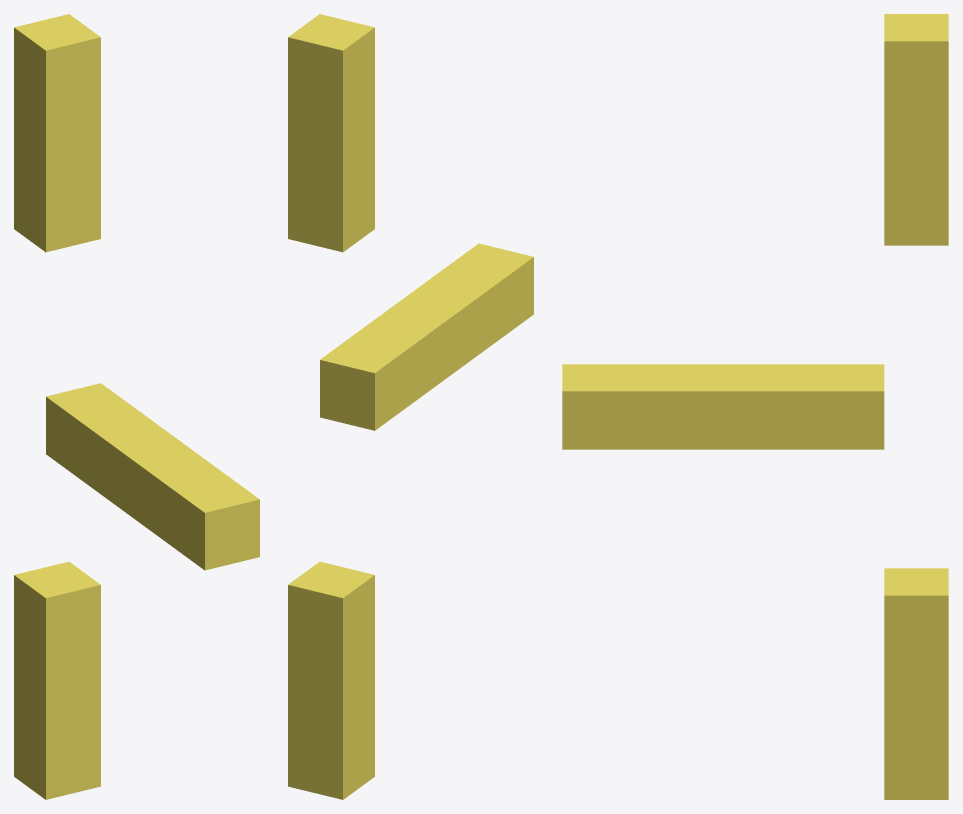
Rendered from fx_impact.glb.
The picture shows the model from 3 angles, left to right: view 1: azimuth 30°, elevation 25°; view 2: azimuth 150°, elevation 25°; view 3: azimuth 270°, elevation 25°; orthographic projection.
Parts seen in each view (by area): view 1: fx_impact; view 2: fx_impact; view 3: fx_impact.
Boxes of the visible parts, left/top/right/bottom form: fx_impact: left=14, top=14, right=259, bottom=799; fx_impact: left=288, top=14, right=533, bottom=799; fx_impact: left=562, top=14, right=948, bottom=799.
Bounding box in the file's own units: 0.02 × 0.26 × 0.12.
Materials: 1 (1 with a texture image).
